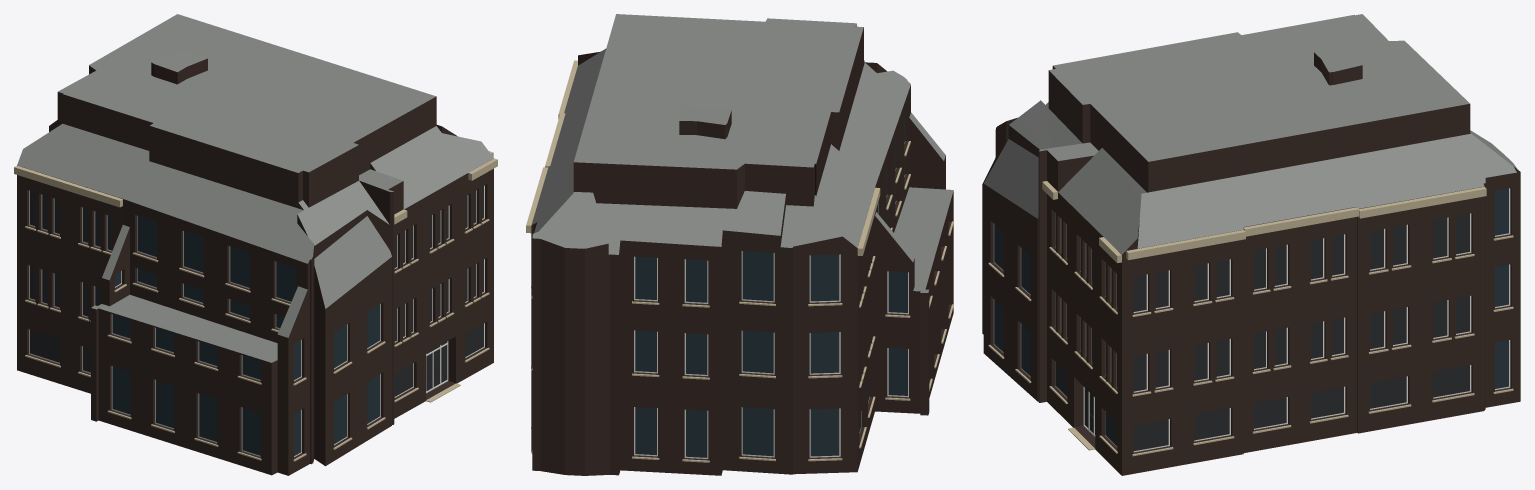
The model's file is recipe-large-emmalaan-4-236822.glb.
3 views of the same model, side by side, from view 1: azimuth 30°, elevation 25°; view 2: azimuth 150°, elevation 25°; view 3: azimuth 270°, elevation 25° (orthographic). The views are drawn at different scales.
Visible parts, largest first — view 1: emmalaan-4-236822; view 2: emmalaan-4-236822; view 3: emmalaan-4-236822.
Boxes of the visible parts, x1,y1,x2,y2 form: emmalaan-4-236822: (14,14,497,475); emmalaan-4-236822: (526,14,953,475); emmalaan-4-236822: (982,14,1520,475).
Bounding box in the file's own units: 24.84 × 17.98 × 28.81.
